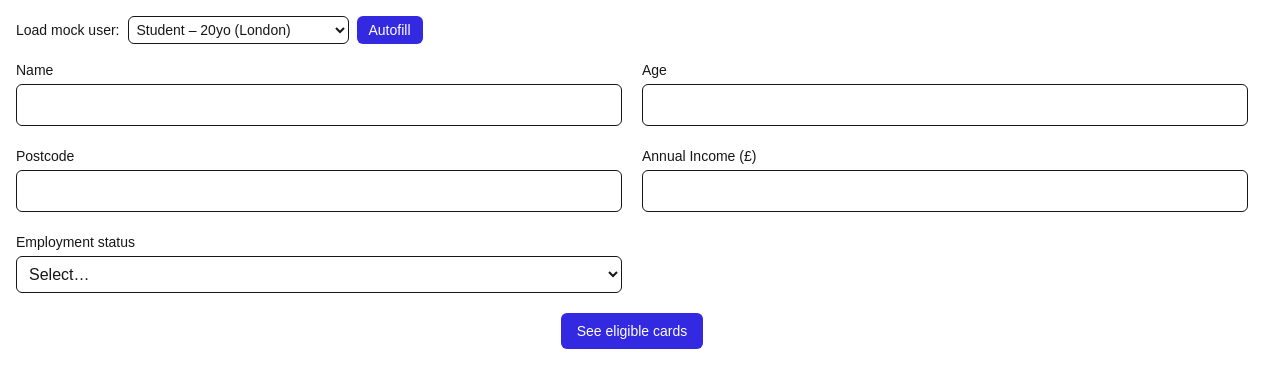
PresetPicker → ApplicantForm integration › choosing a mock user autofills the form fields
Select "Student – 20yo (London)" in the dropdown labelled "Load mock user:" at (238, 30), box [128, 16, 348, 44]
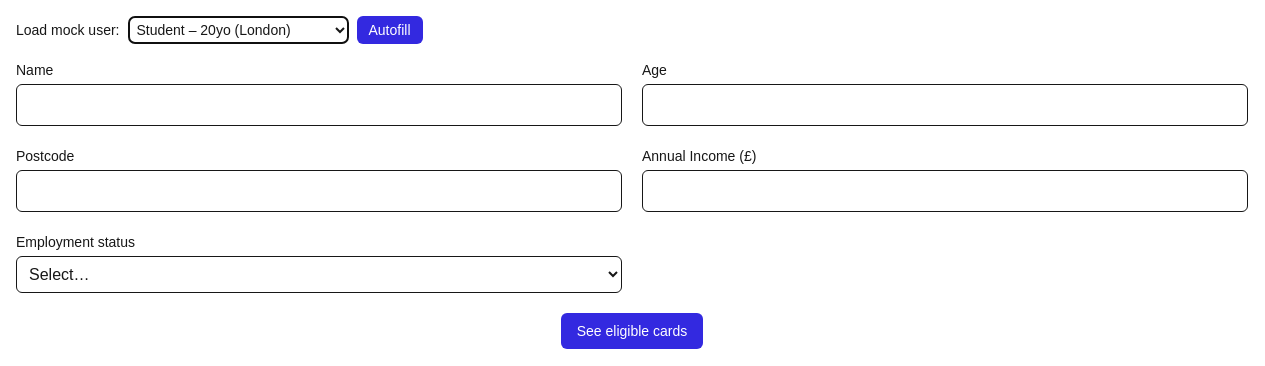
Click the button "Autofill".
click(390, 30)  # box [356, 16, 422, 44]
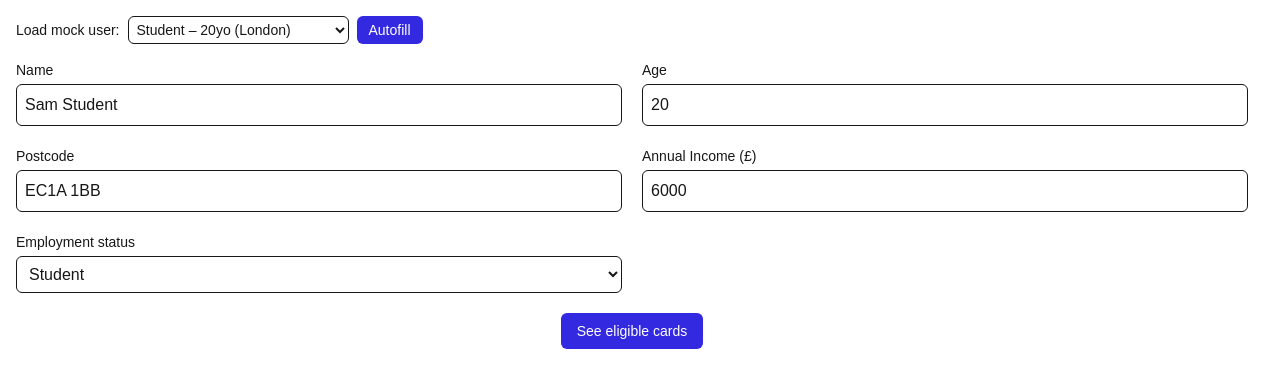
Expected: the field labelled "Name" holds "Sam Student", [16, 84, 622, 126]
Expected: the number field labelled "Age" holds "20", [642, 84, 1248, 126]
Expected: the field labelled "Postcode" holds "EC1A 1BB", [16, 170, 622, 212]
